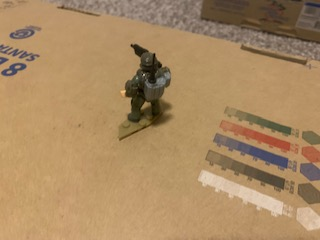soldier: (113, 42, 175, 133)
